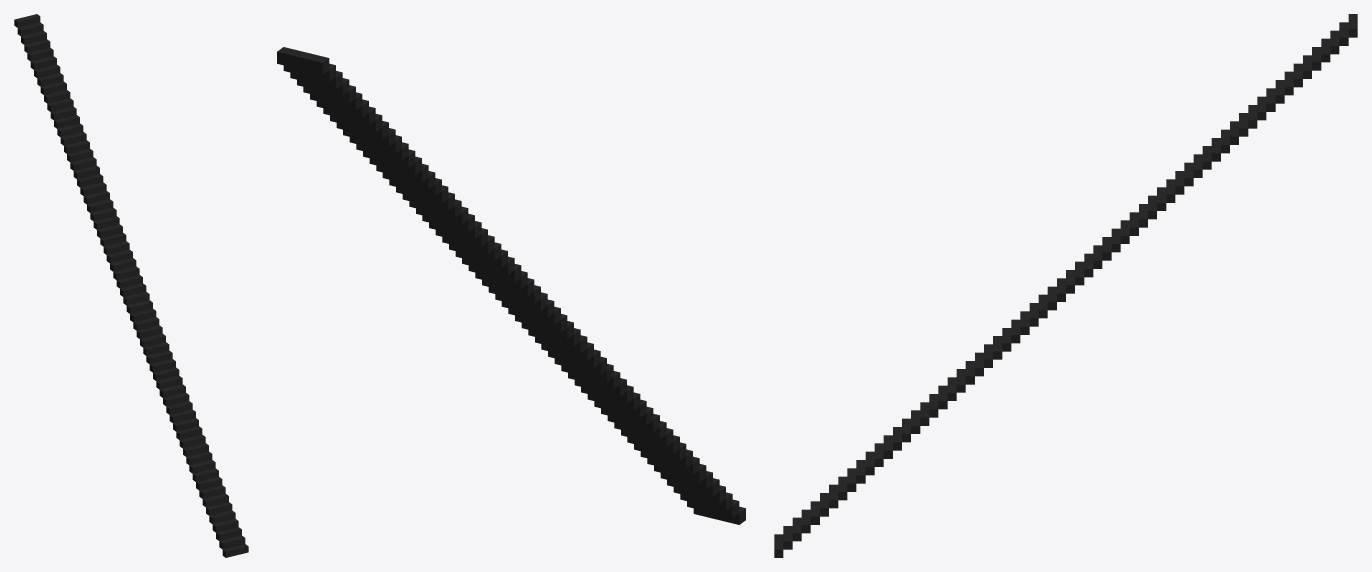
File: stairs.glb
The picture shows the model from 3 angles, left to right: view 1: azimuth 30°, elevation 25°; view 2: azimuth 150°, elevation 25°; view 3: azimuth 270°, elevation 25°; orthographic projection. The views are drawn at different scales.
Visible parts, largest first — view 1: step; view 2: step; view 3: step.
Boxes of the visible parts, x1,y1,x2,y2 form: step: (14, 14, 248, 557); step: (277, 47, 745, 524); step: (774, 14, 1357, 557).
Bounding box in the file's own units: 2 × 32 × 32.
Materials: 1 (1 with a texture image).
